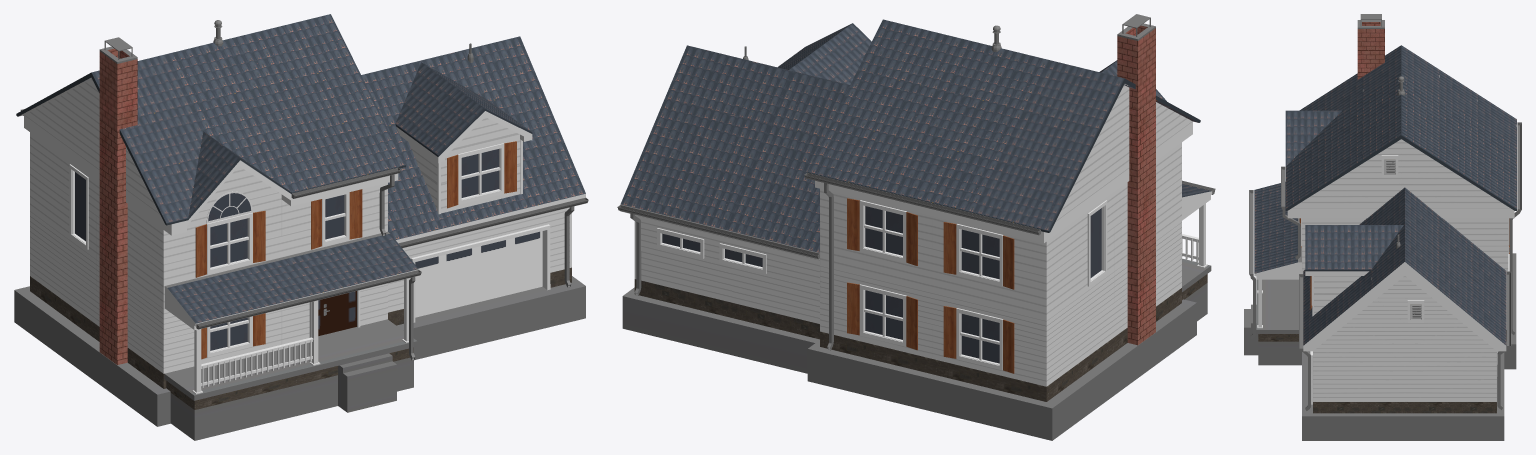
The model's file is nha.fbx.
3 views of the same model, side by side, from view 1: azimuth 30°, elevation 25°; view 2: azimuth 150°, elevation 25°; view 3: azimuth 270°, elevation 25° (orthographic). The views are drawn at different scales.
Visible parts, largest first — view 1: pasted__pasted__house, polySurface82, polySurface112, polySurface21, polySurface84, polySurface36, polySurface81, polySurface31, polySurface25, polySurface64, polySurface30, polySurface39 (+9 smaller); view 2: pasted__pasted__house, polySurface82, polySurface112, polySurface81, polySurface84, polySurface27, polySurface67, polySurface45, polySurface41, polySurface43, polySurface39, polySurface40 (+10 smaller); view 3: pasted__pasted__house, polySurface82, polySurface21, polySurface112, polySurface31, polySurface84, polySurface36, polySurface81, polySurface25, polySurface43, polySurface30, polySurface40.
Part boxes in pixels (box(x1,y1,x2,y2)): pasted__pasted__house: box(361, 36, 588, 360); polySurface82: box(16, 14, 405, 235); polySurface112: box(30, 132, 387, 388); polySurface21: box(164, 231, 418, 329); polySurface84: box(99, 46, 137, 364); polySurface36: box(166, 347, 413, 440); polySurface81: box(14, 286, 170, 426); polySurface31: box(164, 319, 417, 400); polySurface25: box(338, 353, 396, 412); polySurface64: box(206, 212, 252, 274); polySurface30: box(196, 270, 421, 329); polySurface39: box(69, 164, 88, 249); pasted__pasted__house: box(617, 23, 871, 373); polySurface82: box(807, 19, 1200, 243); polySurface112: box(820, 142, 1181, 401); polySurface81: box(807, 299, 1196, 440); polySurface84: box(1117, 23, 1155, 345); polySurface27: box(859, 200, 906, 262); polySurface67: box(859, 284, 906, 346); polySurface45: box(956, 308, 1003, 370); polySurface41: box(956, 224, 1003, 286); polySurface43: box(804, 172, 1040, 235); polySurface39: box(1087, 200, 1107, 286); polySurface40: box(824, 183, 833, 350); pasted__pasted__house: box(1299, 187, 1511, 440); polySurface82: box(1285, 45, 1516, 218); polySurface21: box(1254, 182, 1301, 279); polySurface112: box(1302, 218, 1508, 341); polySurface31: box(1256, 279, 1298, 333); polySurface84: box(1357, 20, 1384, 79); polySurface36: box(1258, 334, 1301, 365); polySurface81: box(1504, 253, 1516, 369); polySurface25: box(1244, 304, 1258, 355); polySurface43: box(1517, 122, 1521, 212); polySurface30: box(1249, 190, 1253, 276); polySurface40: box(1509, 211, 1519, 334).
Size of the model in its own units: 1019 by 773 by 733.
Materials: 1 (1 with a texture image).
